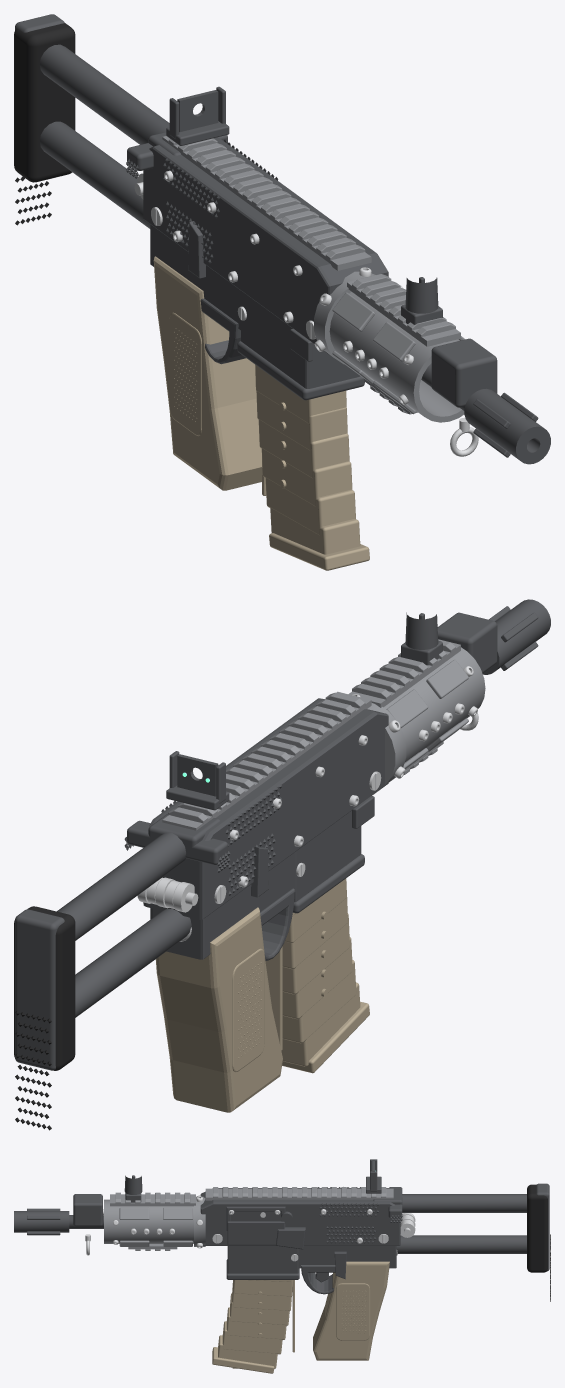
File: aks74u.glb
3 views of the same model, one above another, from view 1: azimuth 30°, elevation 25°; view 2: azimuth 150°, elevation 25°; view 3: azimuth 270°, elevation 25° (orthographic). The views are drawn at different scales.
Parts seen in each view (by area): view 1: tanker-carbine, magazine/polymerTan, stock-fold/gunmetal, stock-fold/rubber, charge; view 2: tanker-carbine, stock-fold/gunmetal, magazine/polymerTan, stock-fold/rubber, charge; view 3: tanker-carbine, magazine/polymerTan, stock-fold/gunmetal, stock-fold/rubber, charge.
Boxes of the visible parts, x1,y1,x2,y2 form: tanker-carbine: [134, 86, 550, 490]; magazine/polymerTan: [255, 364, 369, 570]; stock-fold/gunmetal: [15, 14, 169, 228]; stock-fold/rubber: [14, 23, 75, 225]; charge: [126, 132, 227, 178]; tanker-carbine: [137, 599, 550, 1112]; stock-fold/gunmetal: [15, 833, 191, 1070]; magazine/polymerTan: [265, 878, 369, 1073]; stock-fold/rubber: [14, 906, 75, 1130]; charge: [124, 813, 230, 872]; tanker-carbine: [14, 1159, 415, 1360]; magazine/polymerTan: [212, 1280, 294, 1373]; stock-fold/gunmetal: [396, 1183, 549, 1271]; stock-fold/rubber: [527, 1184, 550, 1301]; charge: [373, 1187, 402, 1222].
Size of the model in its own units: 0.0592 by 0.2264 by 0.5433.
